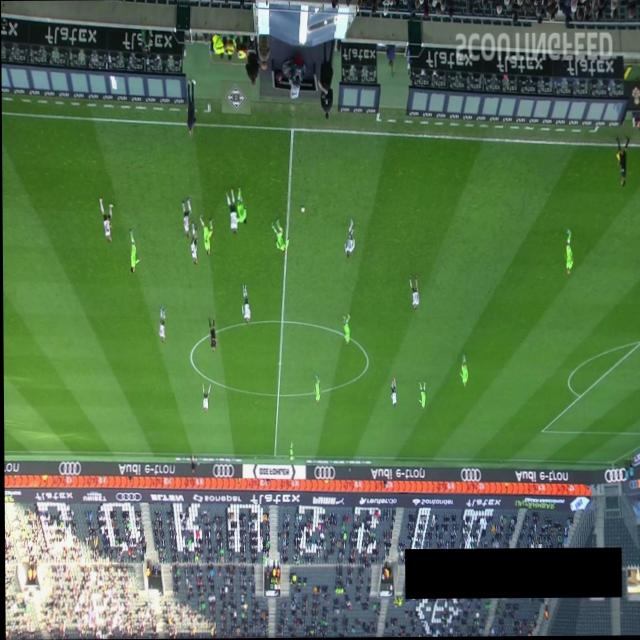player: (223, 188, 237, 236), (270, 218, 288, 254), (98, 197, 112, 243), (198, 214, 213, 256), (128, 228, 140, 273), (562, 230, 573, 276), (343, 218, 354, 258), (180, 197, 190, 237), (407, 275, 418, 311), (235, 186, 245, 225), (240, 284, 249, 324), (189, 221, 197, 265), (457, 353, 467, 387), (200, 383, 210, 413), (341, 313, 349, 347), (416, 381, 425, 411), (157, 306, 164, 342), (313, 374, 320, 405), (389, 377, 395, 408), (287, 439, 293, 465)
referee: (614, 137, 629, 187), (207, 316, 215, 353), (189, 454, 195, 472)
